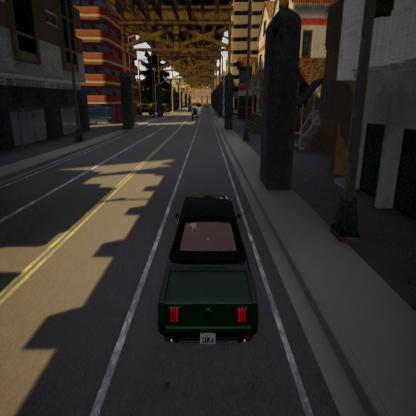Cars: (158, 197, 258, 343), (138, 101, 154, 116), (191, 106, 198, 118), (188, 104, 193, 112), (191, 108, 193, 120)
